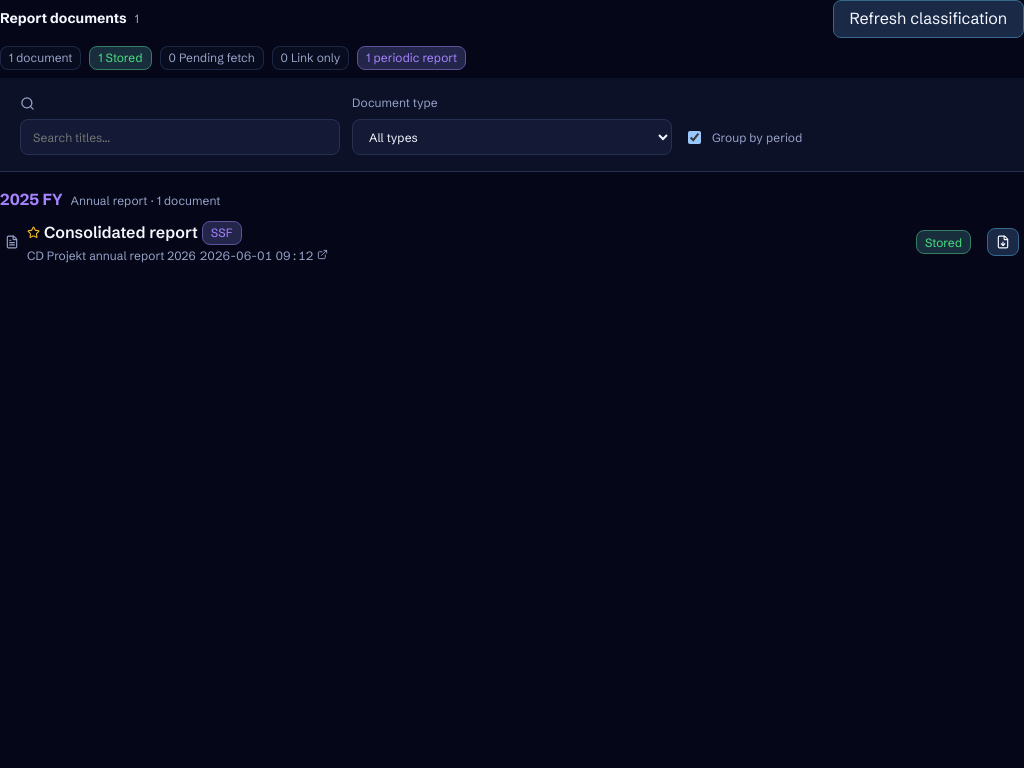
Test: CompanyReportDocumentsPanel › reports a no-new-values result honestly (0 produced facts is not a success)
Click the button named "Extract data".
click(1003, 242)  # box [987,228,1019,256]
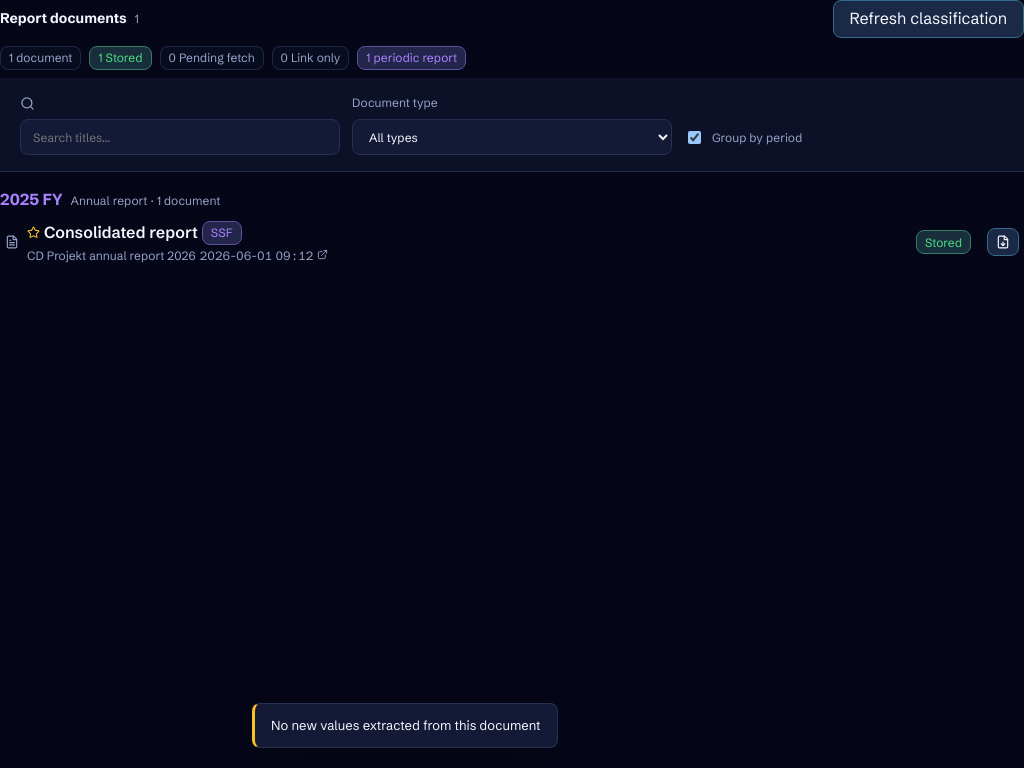
Expected: the text "No new values extracted from this document" is shown, [271,716,540,735]
